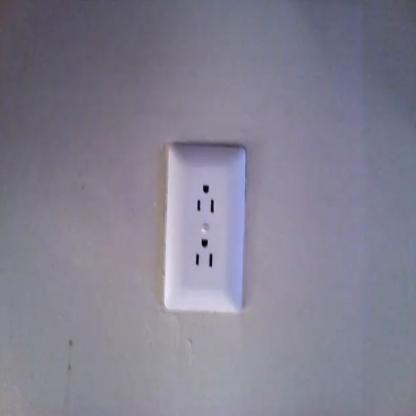OUTLET: (164, 150, 247, 312)
